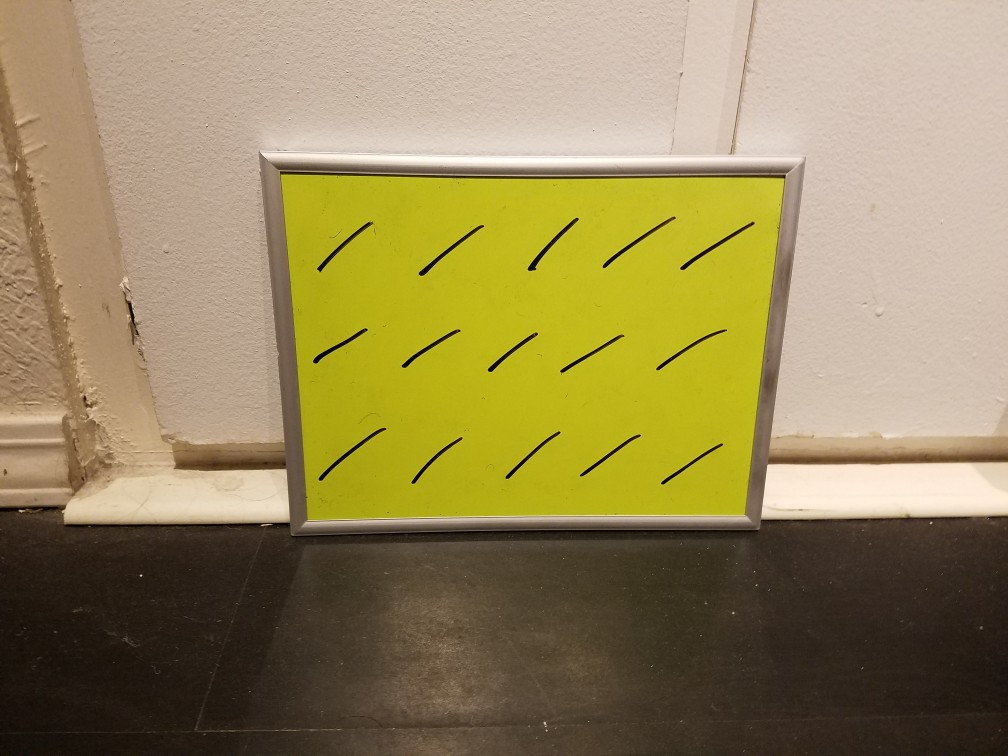/: (309, 417, 393, 493), (645, 317, 736, 383), (680, 213, 760, 283), (654, 435, 733, 497), (604, 210, 675, 277), (493, 421, 566, 485), (305, 211, 375, 277), (554, 323, 628, 385), (415, 217, 487, 277), (573, 429, 645, 488), (404, 432, 474, 492), (521, 211, 582, 276), (400, 320, 466, 377), (481, 324, 540, 385), (310, 323, 371, 376)
